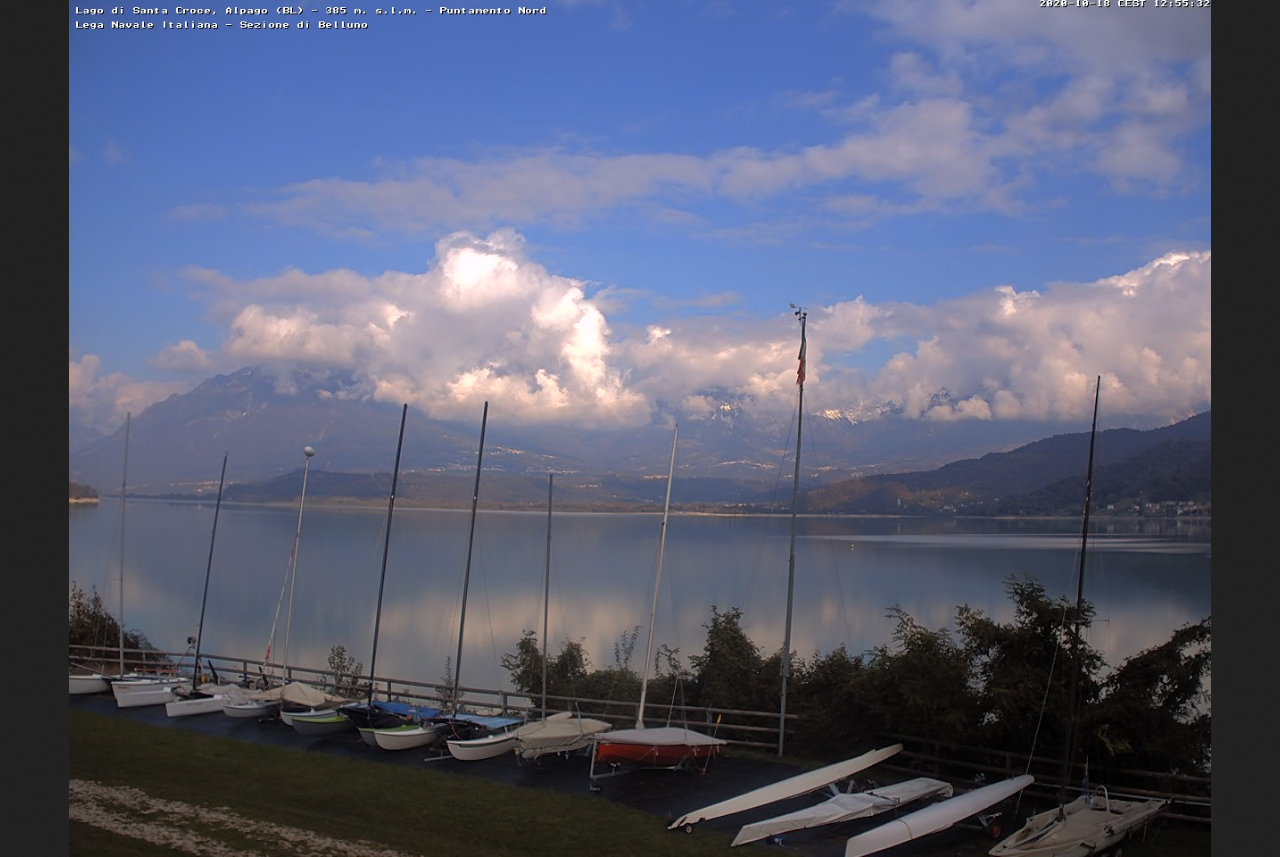no: (793, 319, 809, 384)
